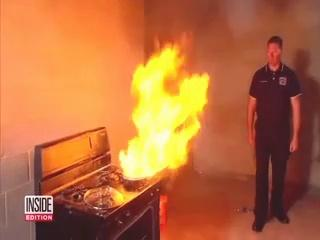Fire: (118, 32, 219, 182)
